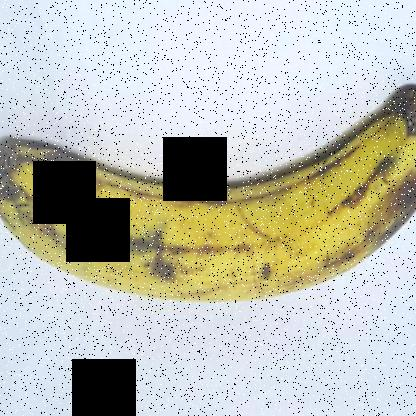ripe: (1, 58, 415, 328)
